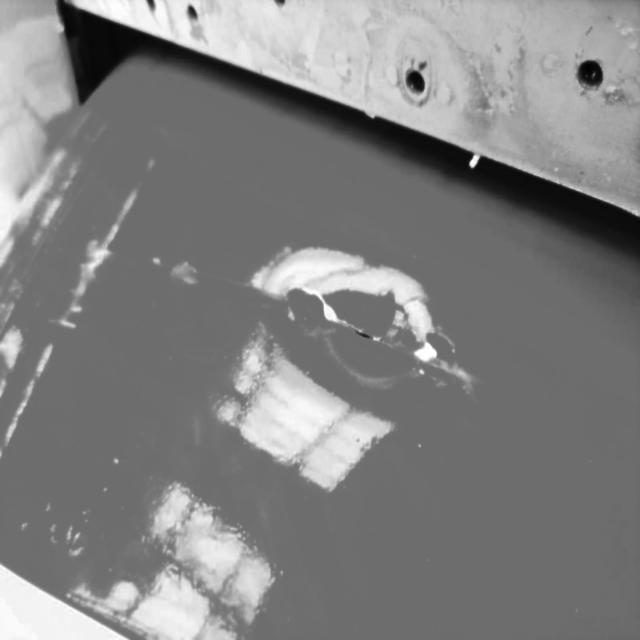crack: (204, 260, 506, 393)
